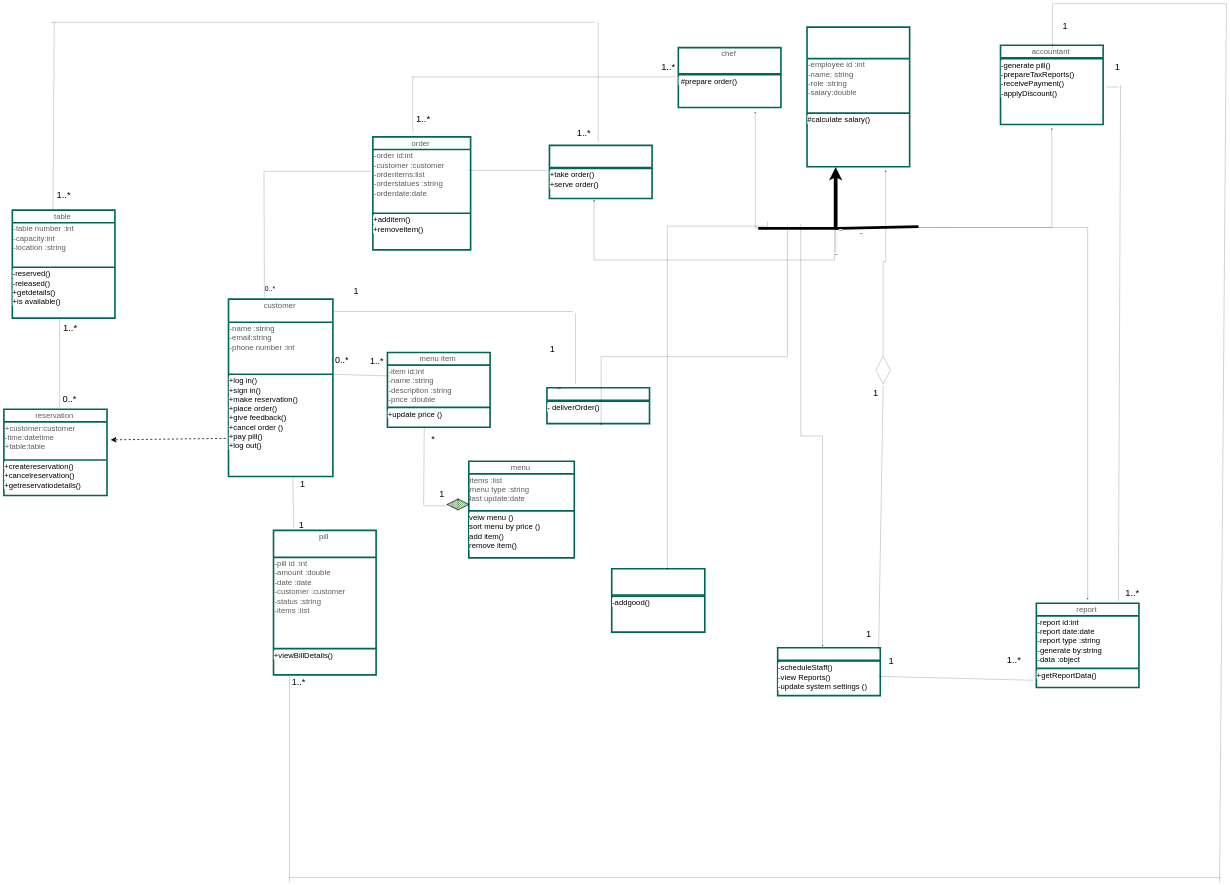
Image size: 1230x885. Some labels were removed from this diagram. Each missing label, with the box of its shape:
crew: (806, 26, 910, 167)
delivery man: (546, 387, 650, 424)
manager: (777, 647, 881, 696)
supplier: (611, 568, 706, 633)
waiter: (549, 144, 653, 199)
